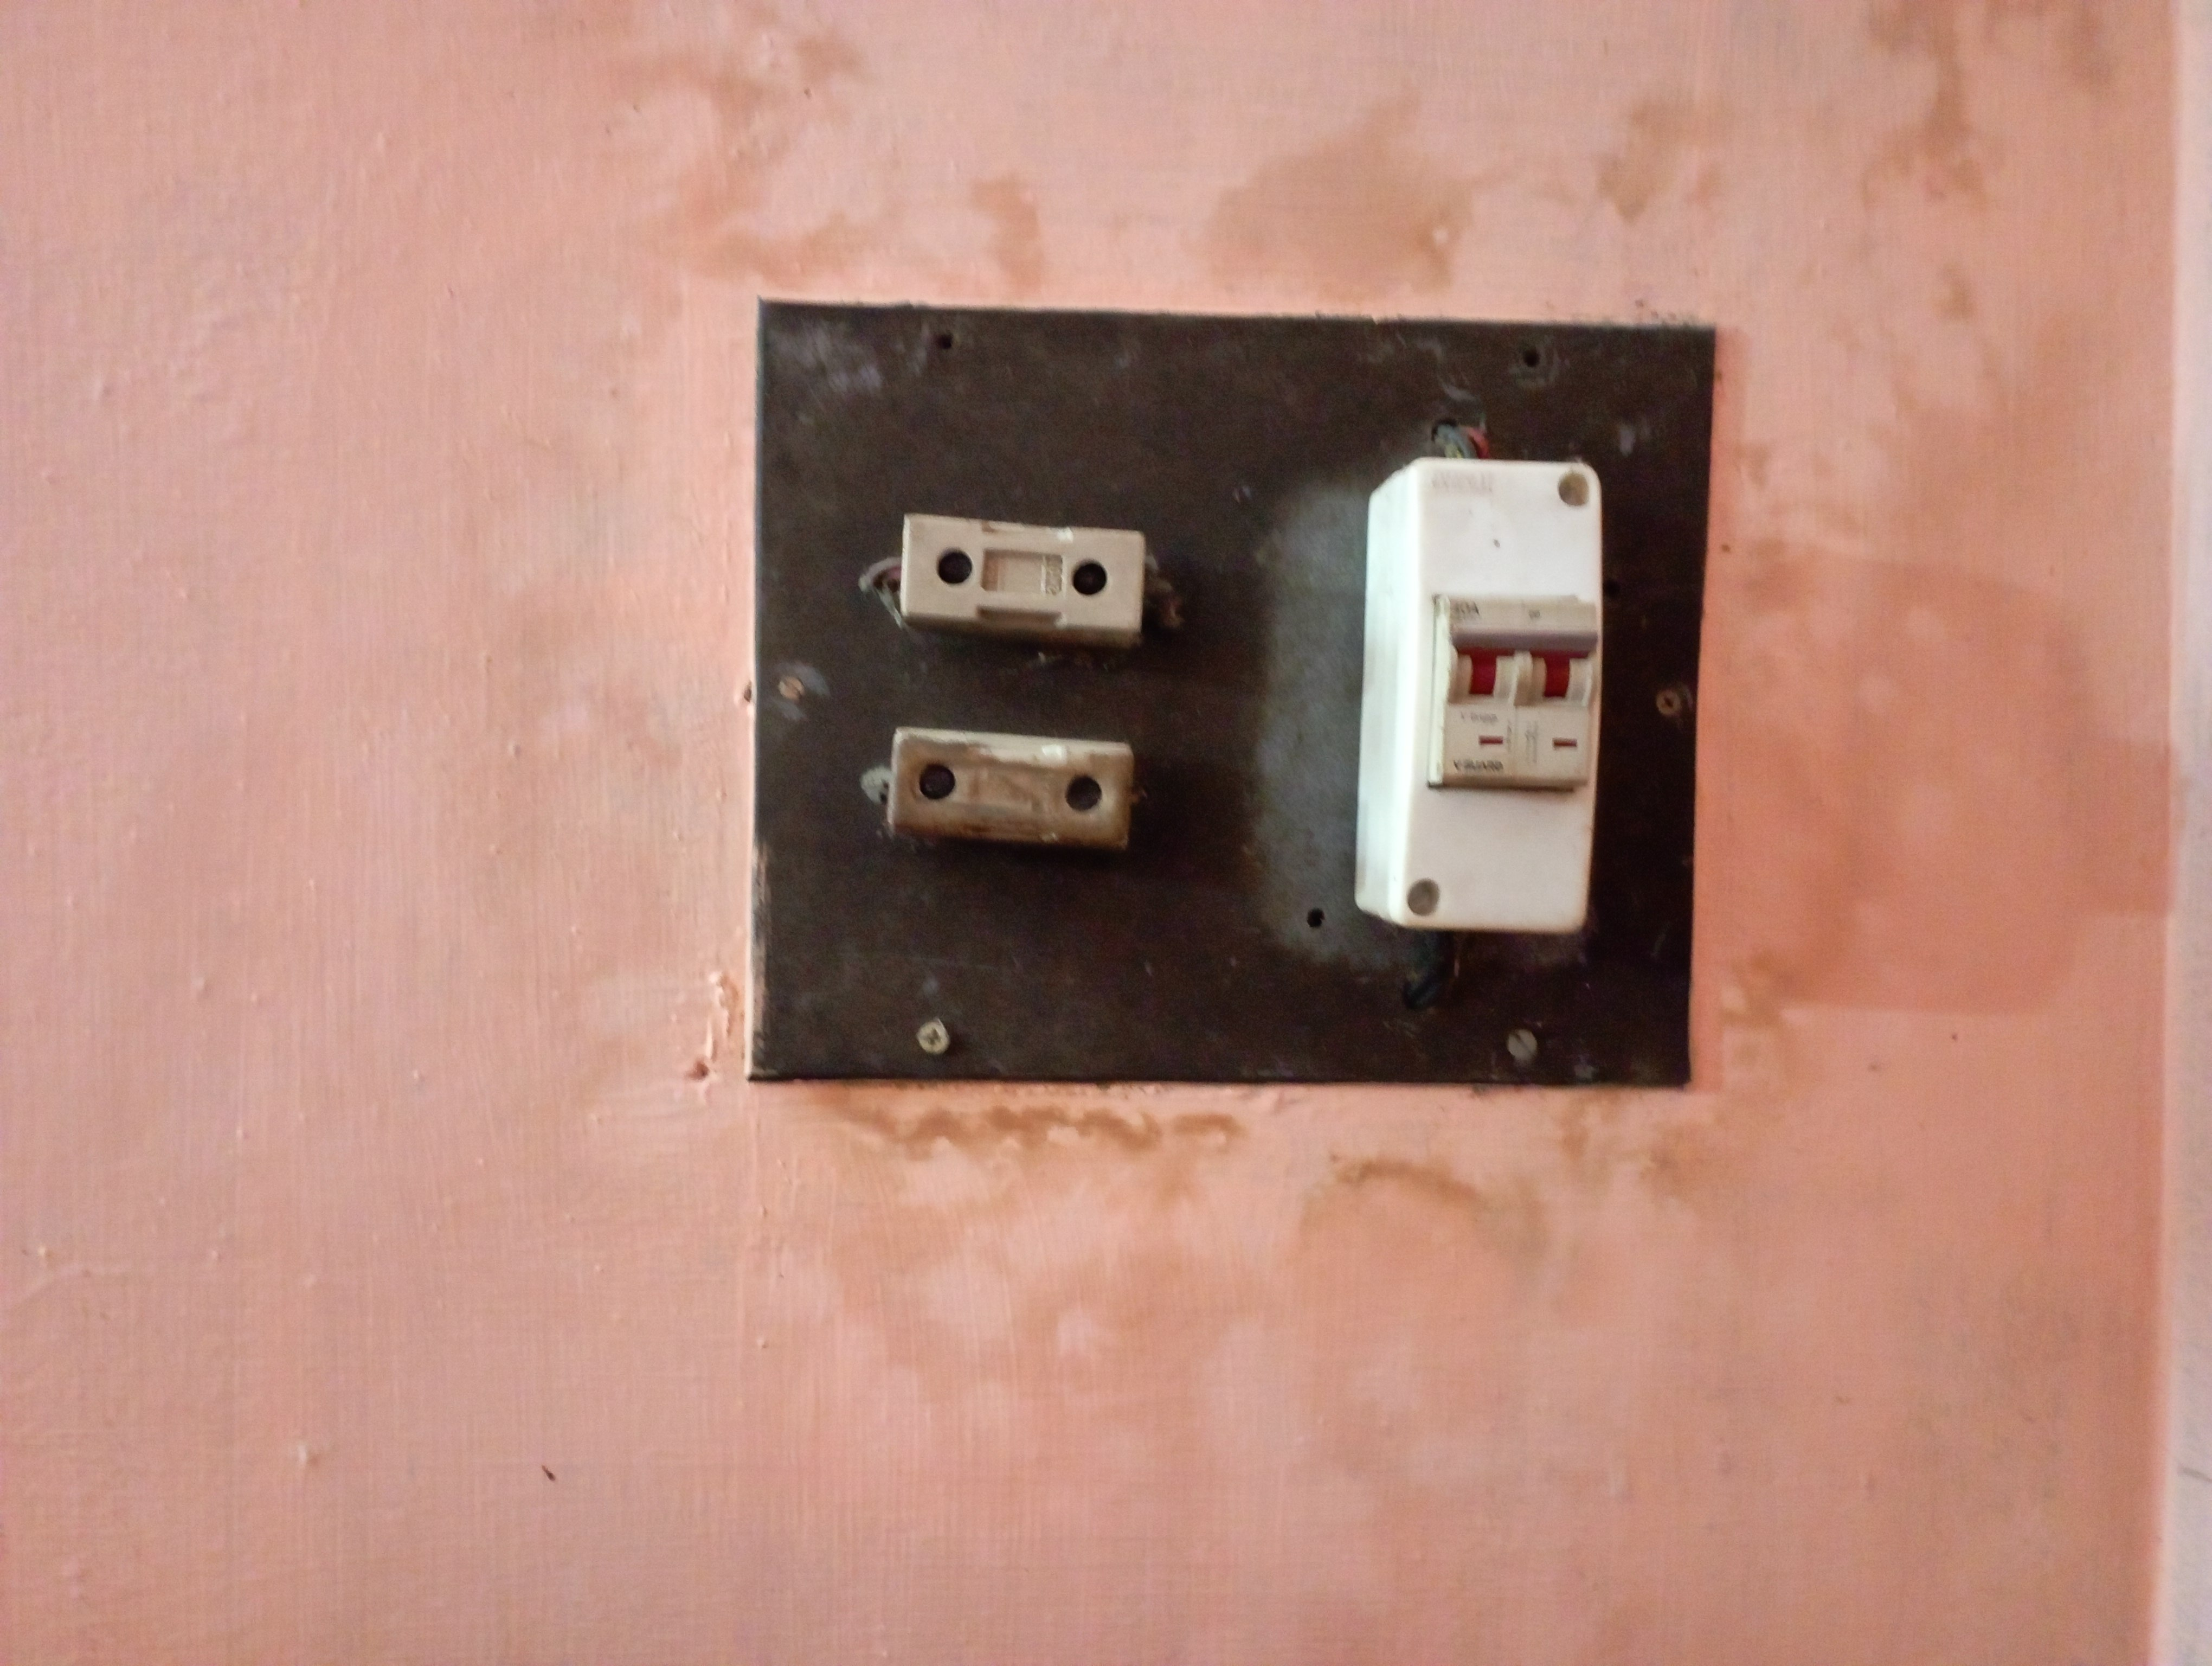ciruit_breaker: (1348, 441, 1607, 956)
fuse: (878, 490, 1193, 665), (878, 705, 1151, 859)
